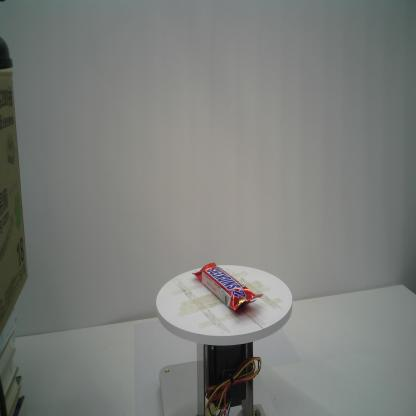Chocolate: (190, 260, 265, 316)
